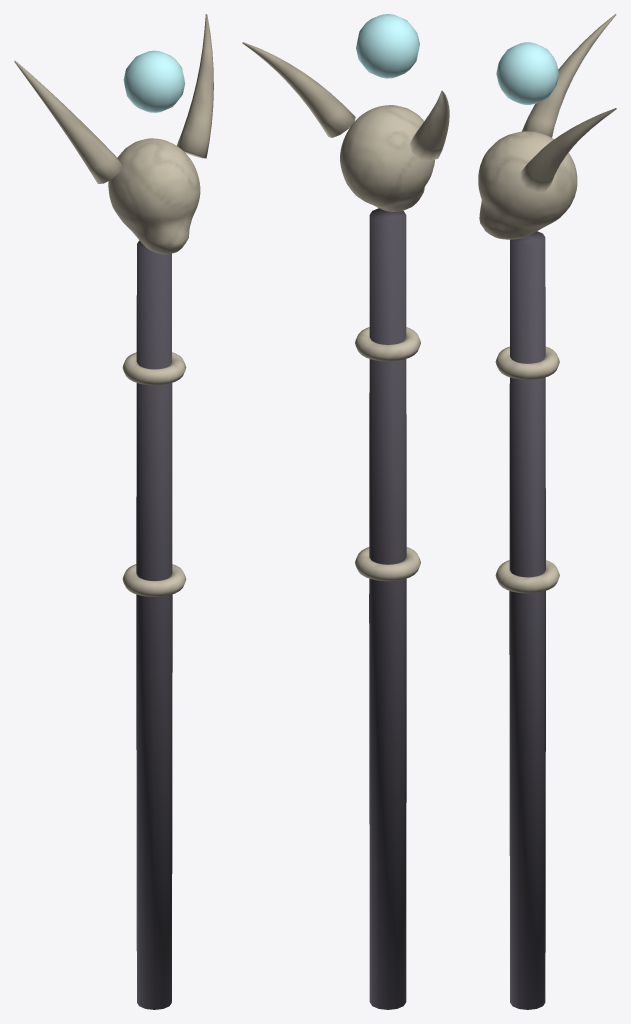
File: HelScepter.fbx
3 views of the same model, side by side, from view 1: azimuth 30°, elevation 25°; view 2: azimuth 150°, elevation 25°; view 3: azimuth 270°, elevation 25° (orthographic). The views are drawn at different scales.
Parts seen in each view (by area): view 1: Scepter, Orb; view 2: Scepter, Orb; view 3: Scepter, Orb.
Part boxes in pixels (left/top/right/bottom): Scepter: left=14, top=14, right=213, bottom=1009; Orb: left=123, top=50, right=185, bottom=112; Scepter: left=242, top=42, right=449, bottom=1009; Orb: left=356, top=14, right=419, bottom=78; Scepter: left=478, top=14, right=616, bottom=1009; Orb: left=496, top=42, right=558, bottom=104.
Bounding box in the file's own units: 0.5726 × 2.69 × 0.353.
